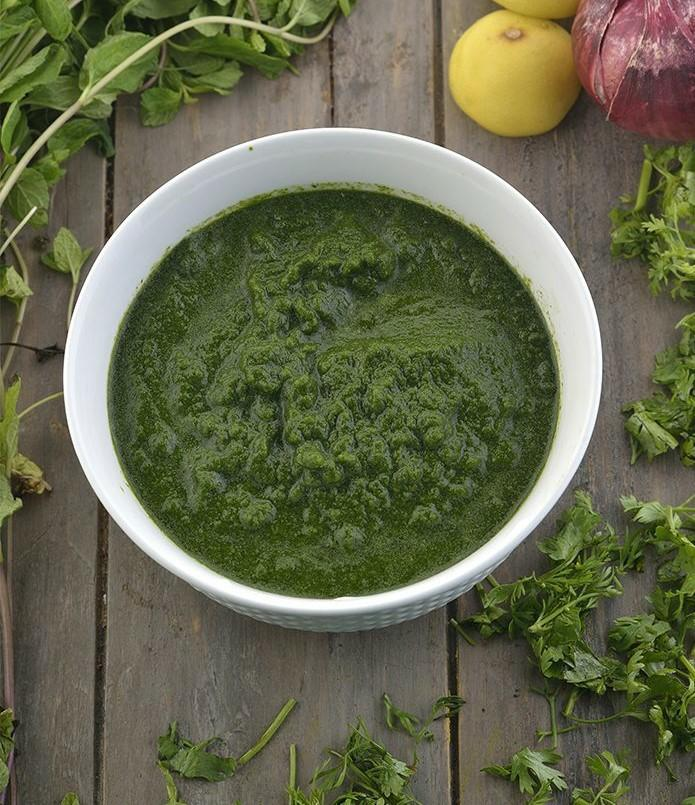GreenChutney: (107, 188, 558, 598)
